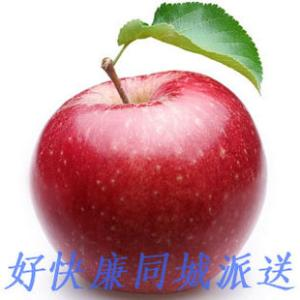apple: (30, 52, 267, 294)
